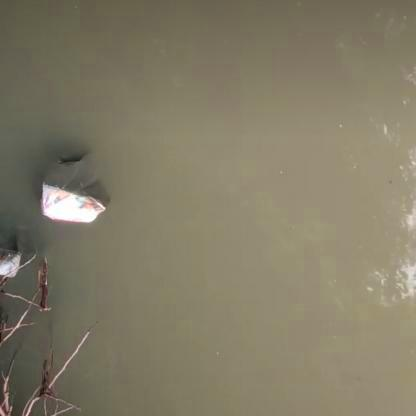Trash: (35, 152, 116, 226)
